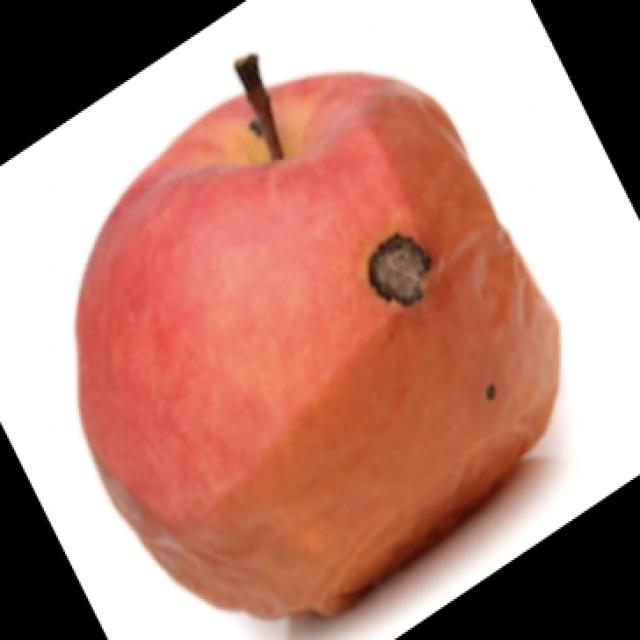Rotten: (95, 87, 542, 598)
